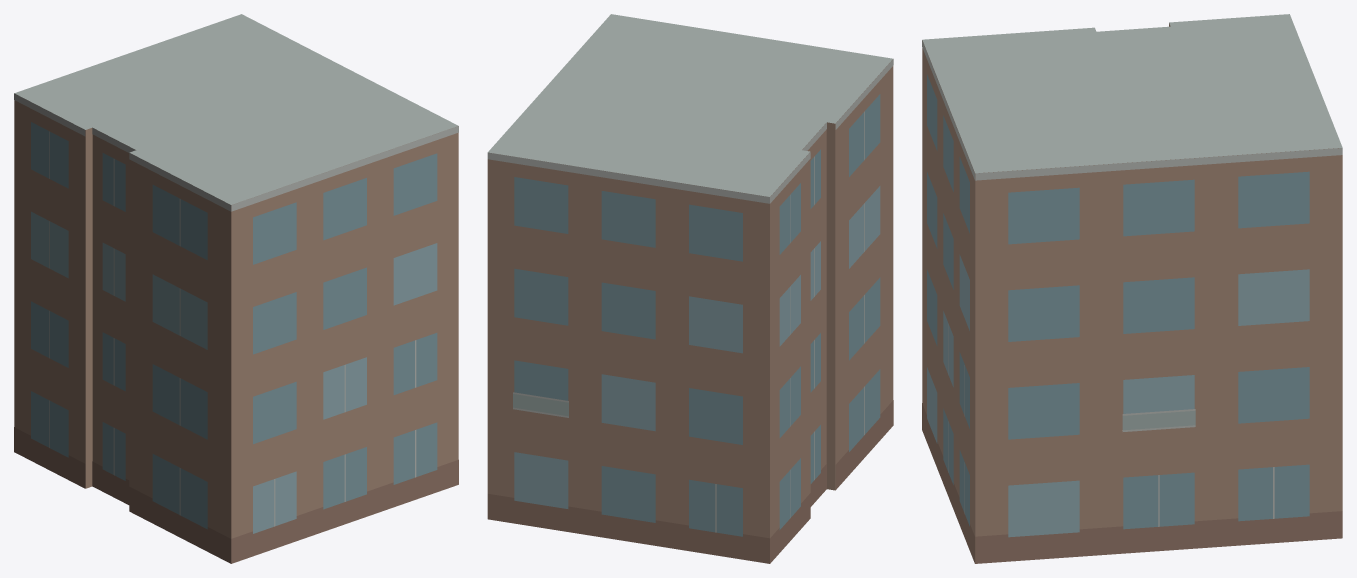
File: survey-upis-32704252.glb
The picture shows the model from 3 angles, left to right: view 1: azimuth 30°, elevation 25°; view 2: azimuth 150°, elevation 25°; view 3: azimuth 270°, elevation 25°; orthographic projection. The views are drawn at different scales.
Parts seen in each view (by area): view 1: survey-upis-32704252.tmp; view 2: survey-upis-32704252.tmp; view 3: survey-upis-32704252.tmp.
Boxes of the visible parts, x1,y1,x2,y2 form: survey-upis-32704252.tmp: [14, 14, 458, 563]; survey-upis-32704252.tmp: [487, 14, 893, 563]; survey-upis-32704252.tmp: [922, 14, 1342, 563].
Size of the model in its own units: 11.49 by 13.12 by 12.81.
